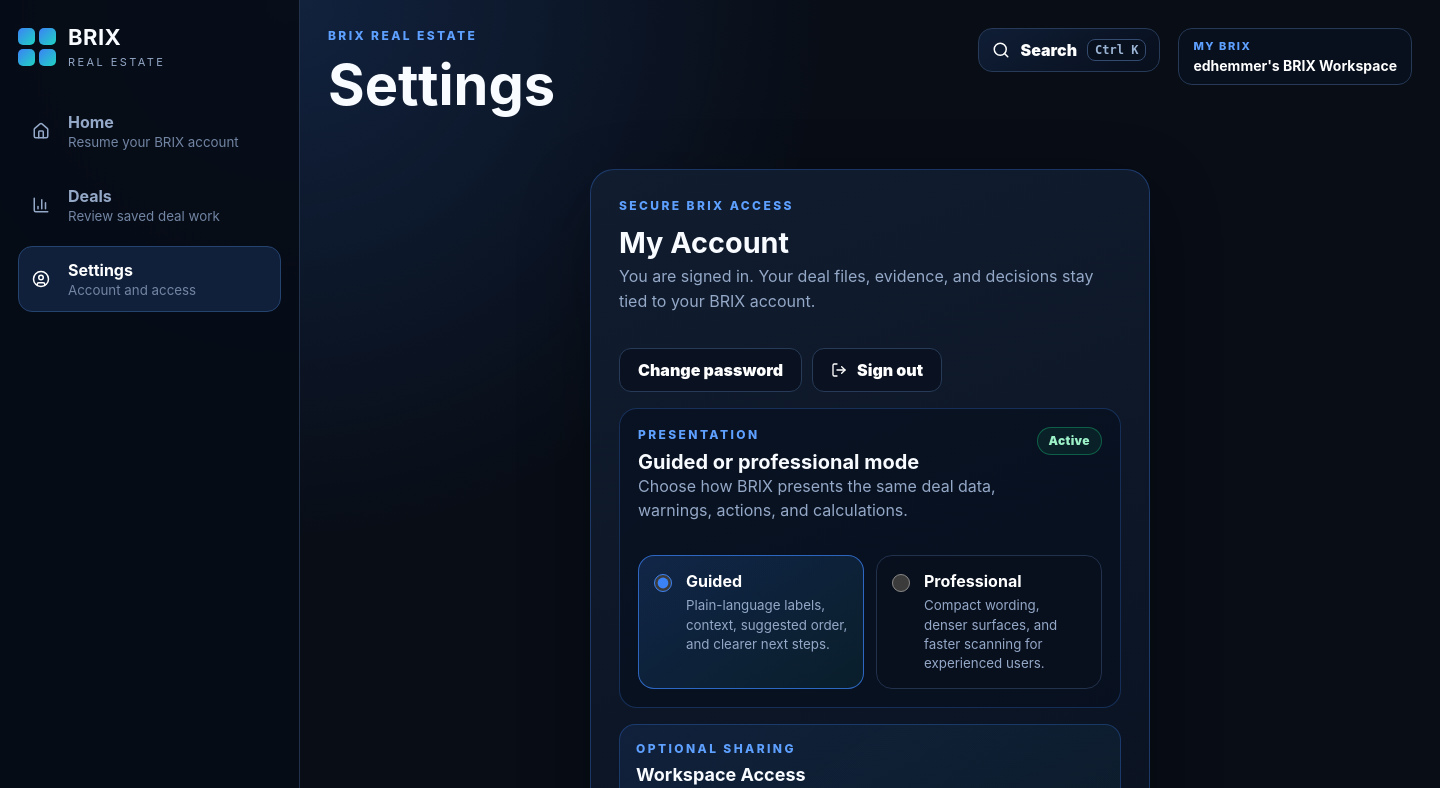
Scenario: BRIX app module flow › restores anonymous presentation scope after sign-out
Expected: the heading "My Account" is shown, [619,225,789,260]
Expected: the radio button labelled "Guided" is checked, [654,574,672,592]
Click the button "Sign out". click: (877, 370)
box: [812,348,942,392]
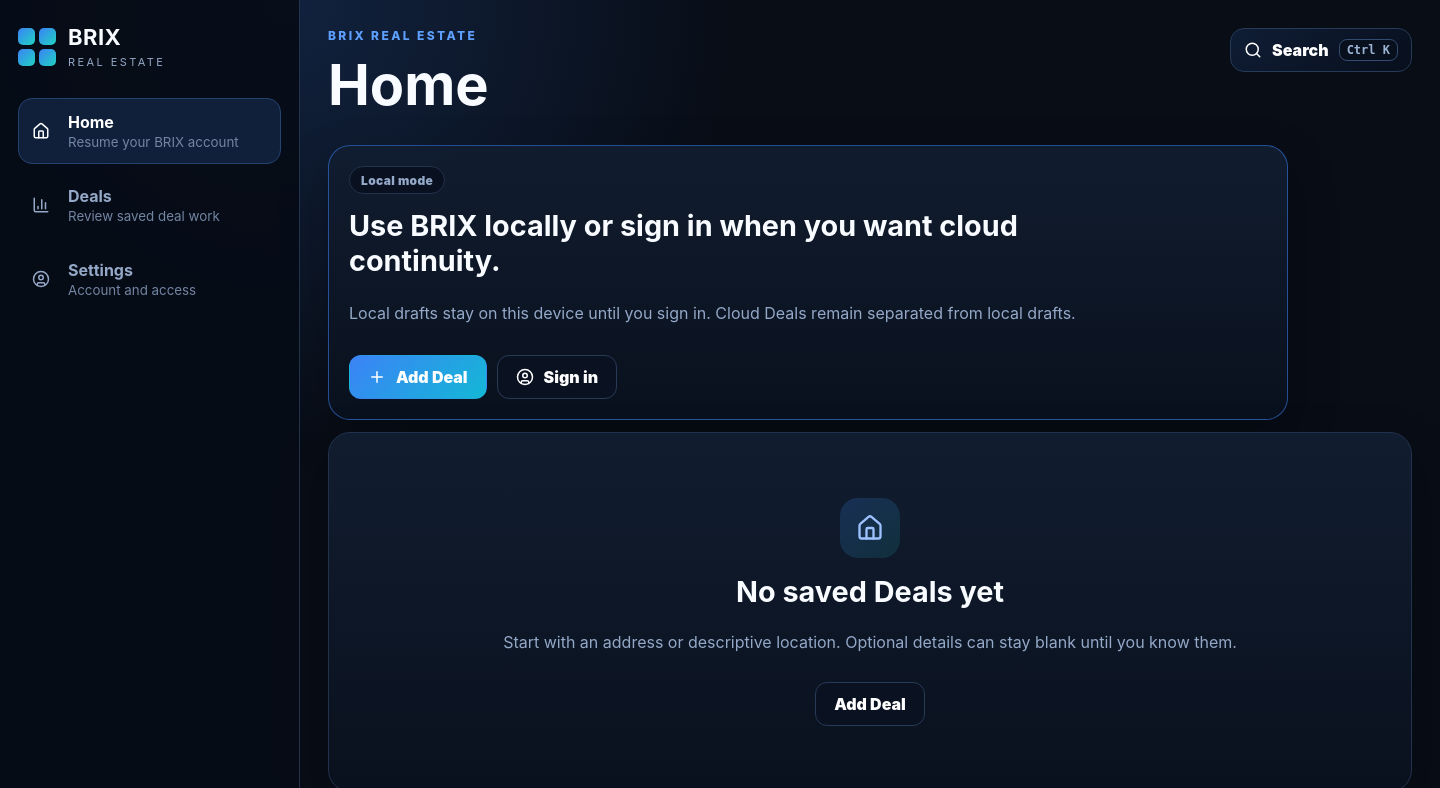
Expected: the heading "My Account" is gone
Expected: the heading "Use BRIX locally or sign in when you want cloud continuity." is shown, [349,208,1109,278]
